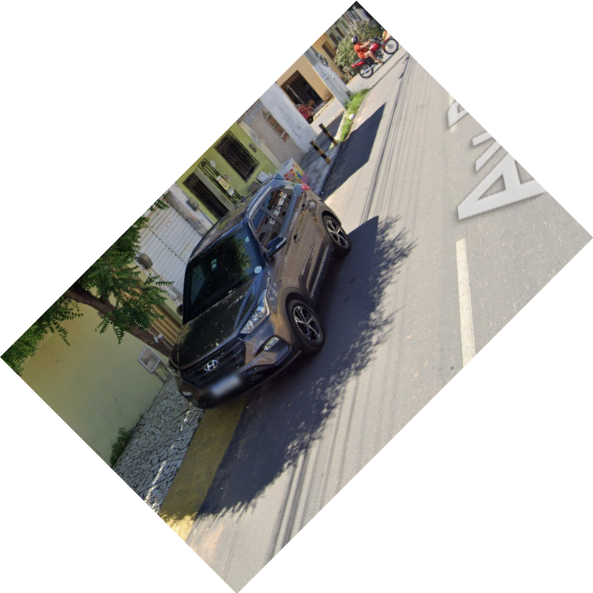car: (163, 175, 358, 420)
